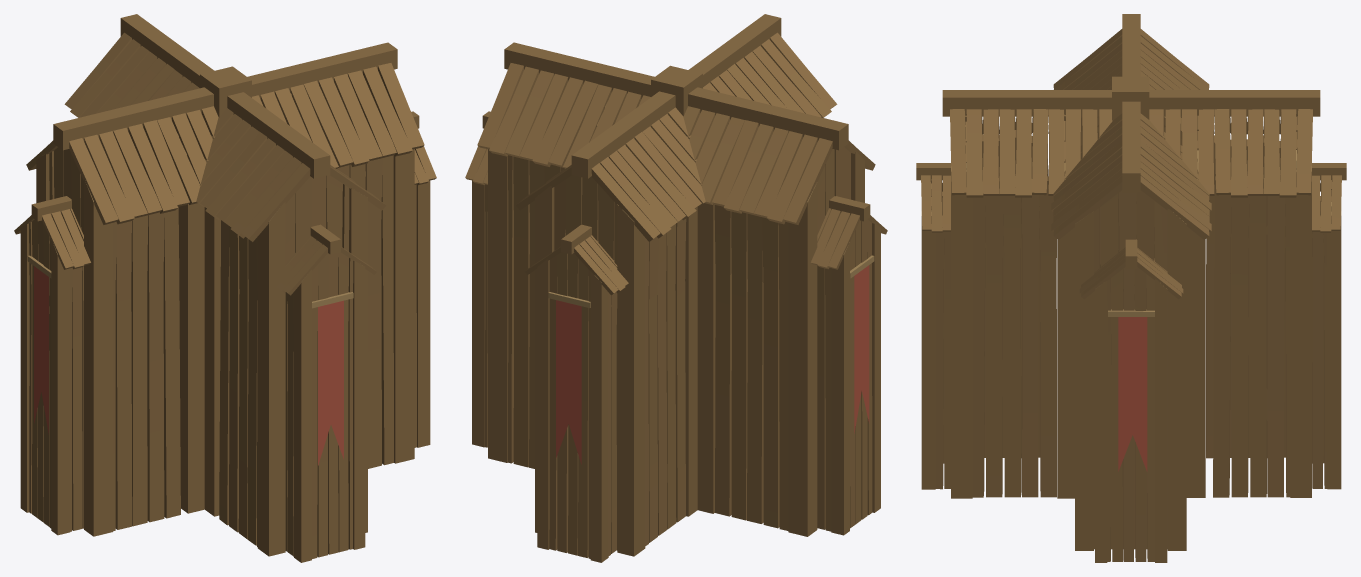
The model's file is Temple_FirstAge_Level1.glb.
3 renders of one model, left to right at view 1: azimuth 30°, elevation 25°; view 2: azimuth 150°, elevation 25°; view 3: azimuth 270°, elevation 25°, orthographic. The views are drawn at different scales.
Parts seen in each view (by area): view 1: Temple_FirstAge_Level1; view 2: Temple_FirstAge_Level1; view 3: Temple_FirstAge_Level1.
Boxes of the visible parts, x1=… form: Temple_FirstAge_Level1: x1=14, y1=14, x2=436, y2=562; Temple_FirstAge_Level1: x1=465, y1=14, x2=887, y2=562; Temple_FirstAge_Level1: x1=916, y1=14, x2=1346, y2=562.
Bounding box in the file's own units: 1.81 × 1.81 × 1.81.
